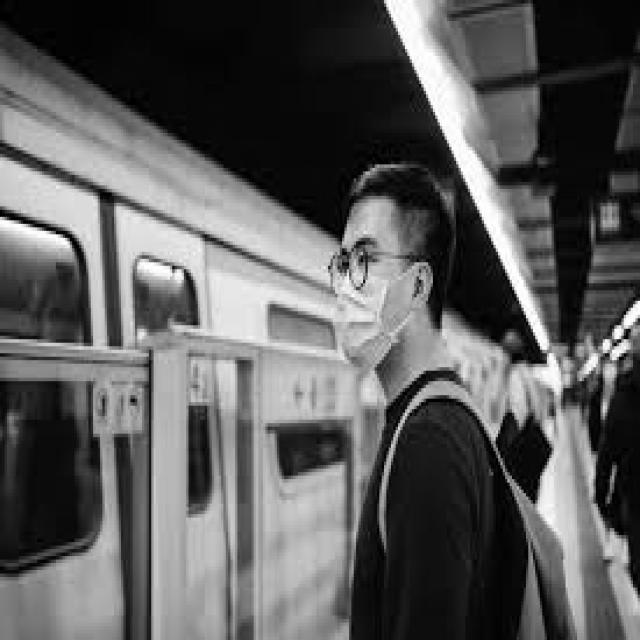with_mask: (330, 262, 414, 371)
